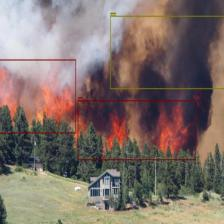fire: (78, 100, 196, 160), (0, 59, 76, 133)
smoke: (110, 15, 224, 89)
